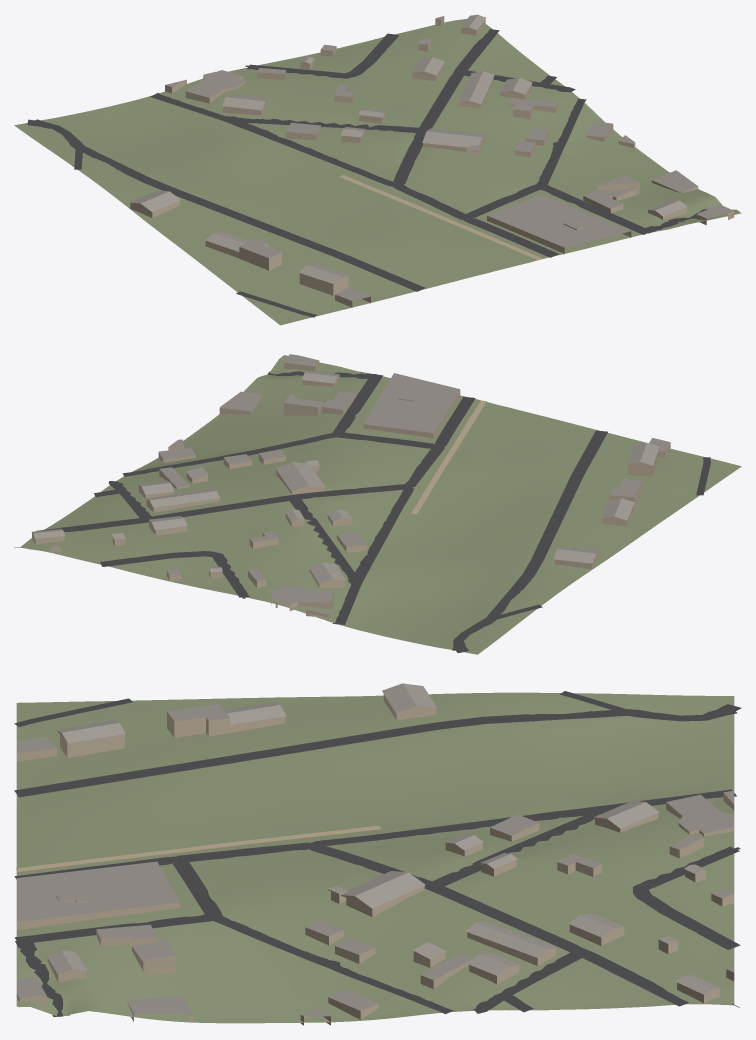
3 views of the same model, one above another, from view 1: azimuth 30°, elevation 25°; view 2: azimuth 150°, elevation 25°; view 3: azimuth 270°, elevation 25° (orthographic). The views are drawn at different scales.
Visible parts, largest first — view 1: ground, road, roofs, walls, sheetRoofs, path; view 2: ground, road, roofs, walls, sheetRoofs, path; view 3: ground, road, roofs, walls, sheetRoofs, path.
Part boxes in pixels (x1,y1,x2,y2): ground: [14, 18, 741, 325]; road: [27, 14, 707, 317]; roofs: [166, 16, 733, 300]; walls: [130, 16, 734, 307]; sheetRoofs: [130, 15, 687, 284]; path: [339, 175, 542, 260]; ground: [20, 355, 741, 654]; road: [14, 371, 710, 653]; roofs: [52, 354, 670, 614]; walls: [32, 360, 670, 620]; sheetRoofs: [31, 370, 659, 583]; path: [411, 400, 486, 514]; ground: [16, 692, 734, 1023]; road: [14, 691, 741, 1016]; roofs: [16, 704, 734, 1016]; walls: [16, 694, 734, 1025]; sheetRoofs: [46, 683, 720, 994]; path: [15, 825, 380, 871].
Size of the model in its own units: 254 by 16.05 by 254.
